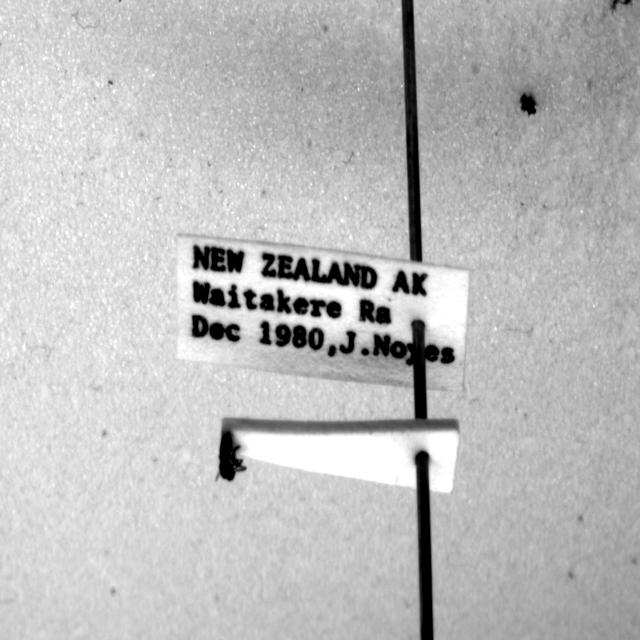typed_label: (178, 236, 469, 390)
